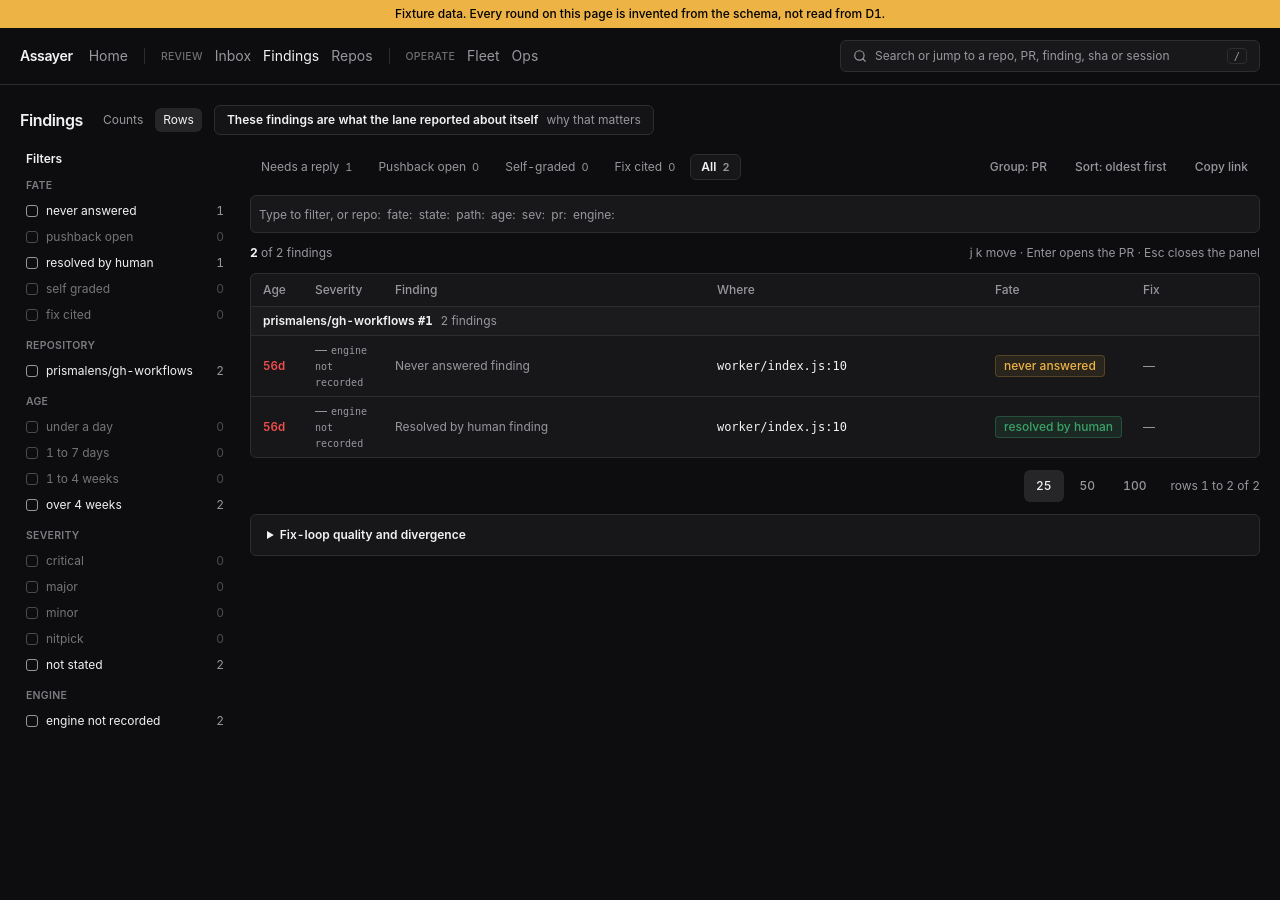
Test: /findings: the inbox › filters the table by the fate facet
Expected: the text "Resolved by human finding" is shown, [395,419,548,434]
Click the button with test id "facet-fate-resolved-by-human" at point(125, 263), box [20,251,230,275]
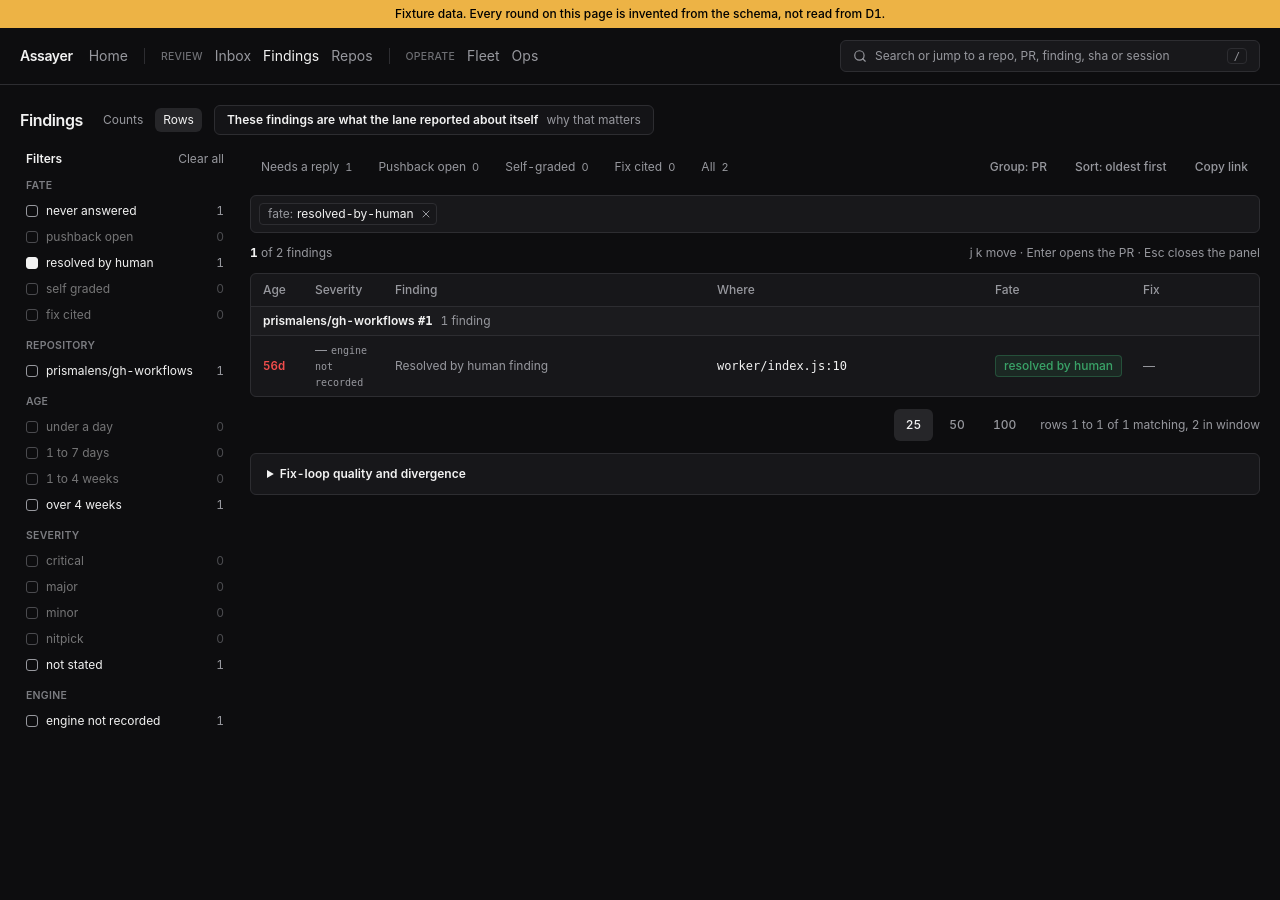
Expected: the number of elements with test id "fate-chip" is 1, [995,355,1122,377]
